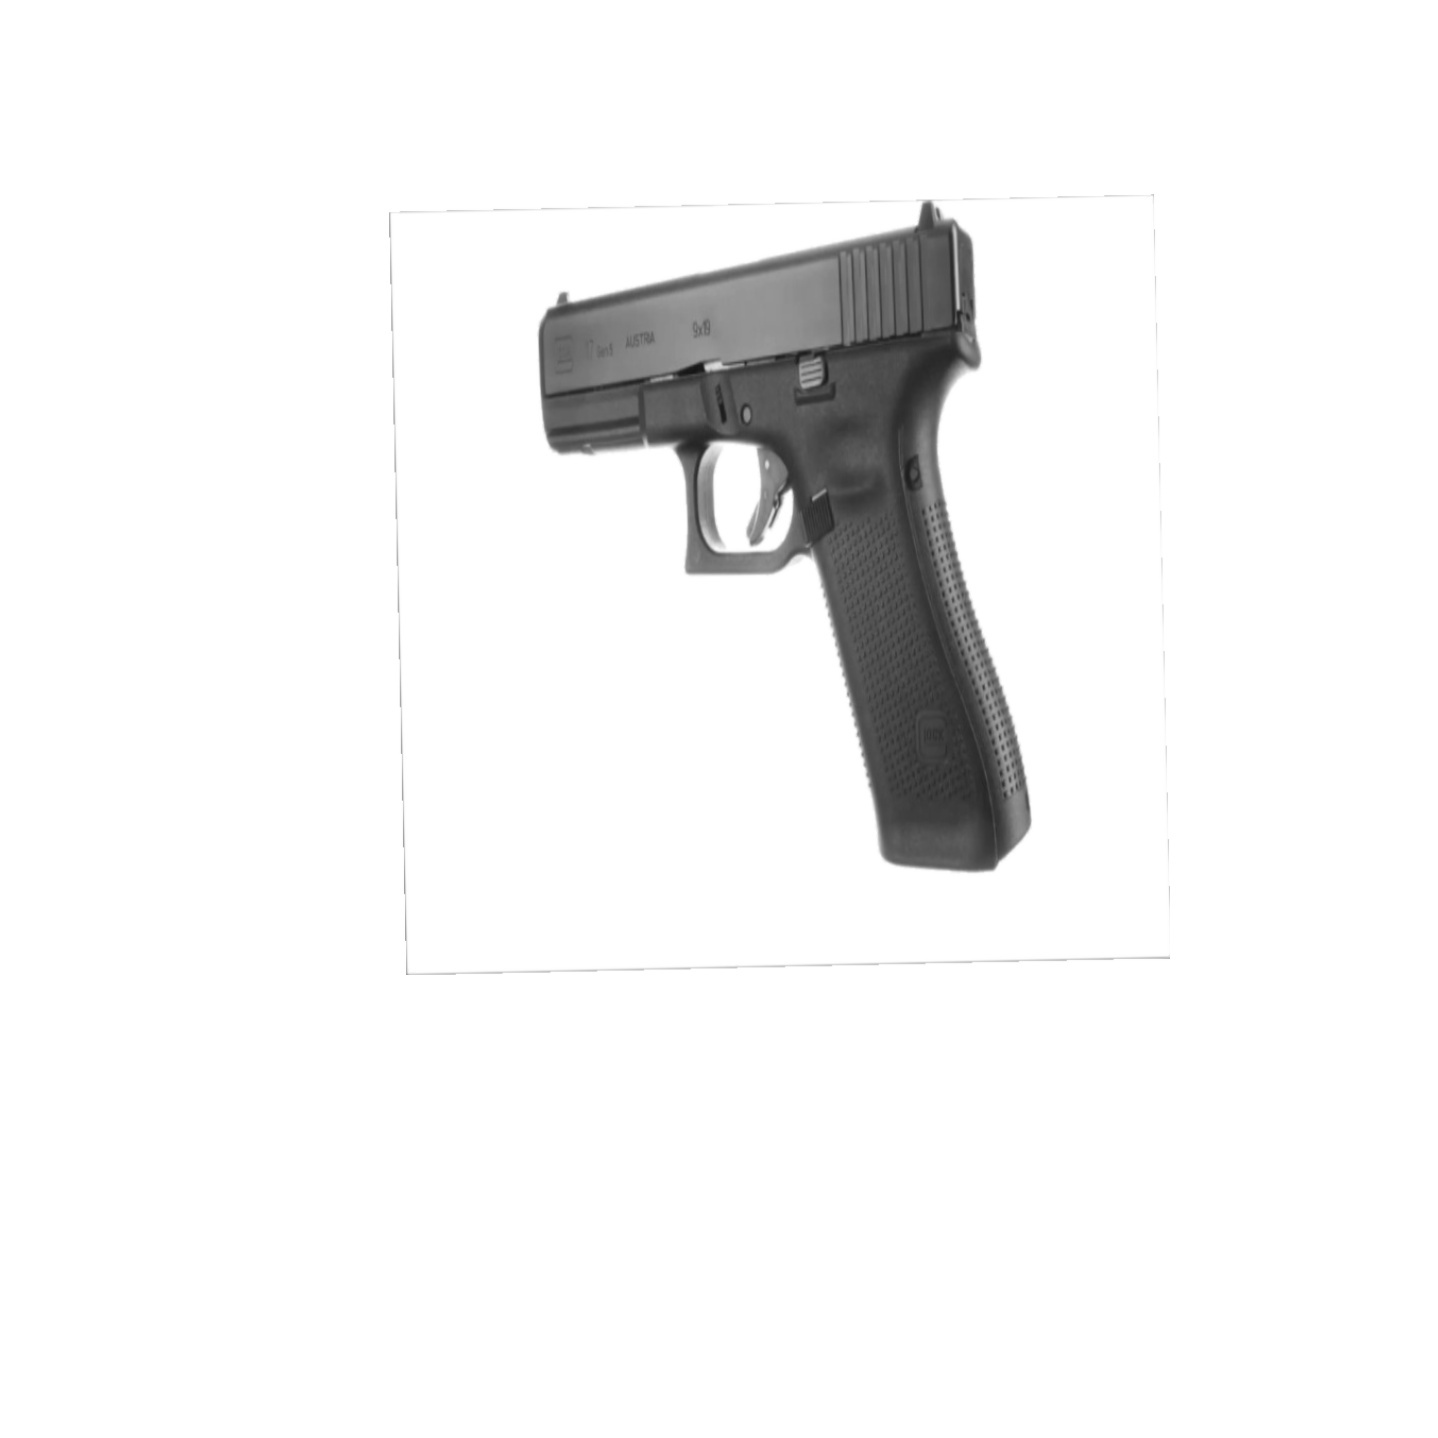gun: (511, 198, 1036, 890)
